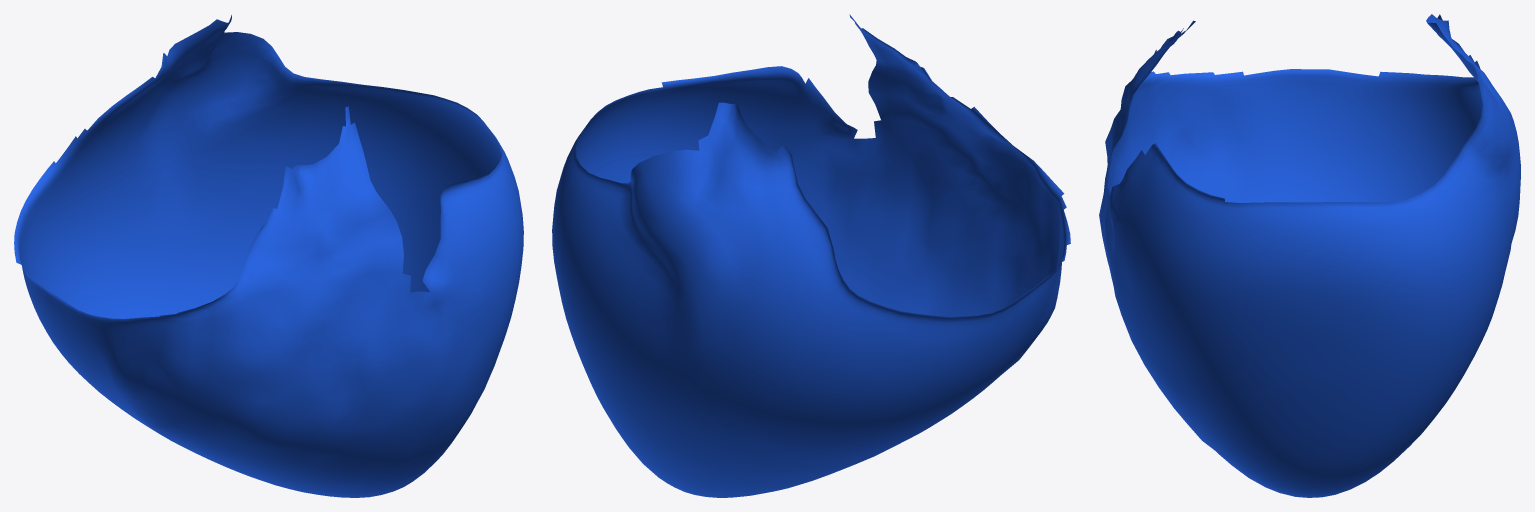
The model's file is baseabaix.obj.
3 renders of one model, left to right at view 1: azimuth 30°, elevation 25°; view 2: azimuth 150°, elevation 25°; view 3: azimuth 270°, elevation 25°, orthographic. The views are drawn at different scales.
Bounding box in the file's own units: 0.9232 × 0.879 × 0.7695.
1 material, 1 textured.
